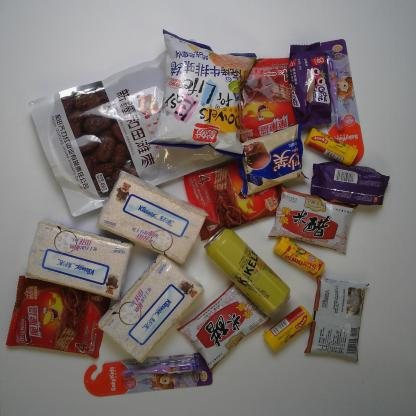Alcohol: (203, 226, 292, 318)
Candy: (262, 304, 314, 350), (272, 236, 325, 278), (303, 128, 359, 166)
Dessert: (5, 274, 112, 360), (183, 160, 284, 241), (237, 122, 309, 197), (238, 57, 298, 143), (287, 42, 332, 130), (309, 161, 390, 206)
Dried Food: (26, 49, 233, 217)
Personal Hygiene: (84, 352, 214, 398), (319, 39, 365, 166)
Puffed Food: (146, 28, 259, 160)
Seasoner: (176, 282, 272, 373), (267, 184, 355, 256), (303, 275, 370, 361)
Tissue: (96, 254, 205, 364), (95, 170, 210, 266), (24, 221, 134, 301)
